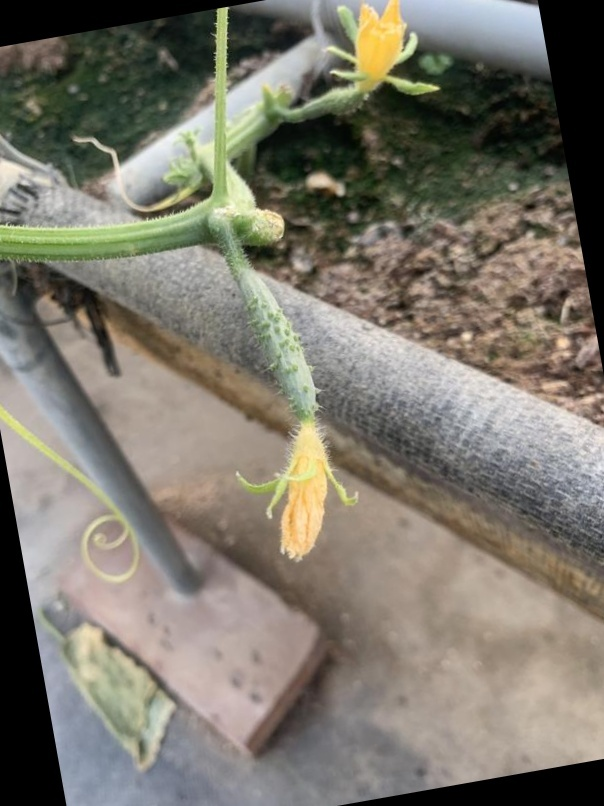bear: (214, 243, 362, 569), (293, 0, 433, 128)
